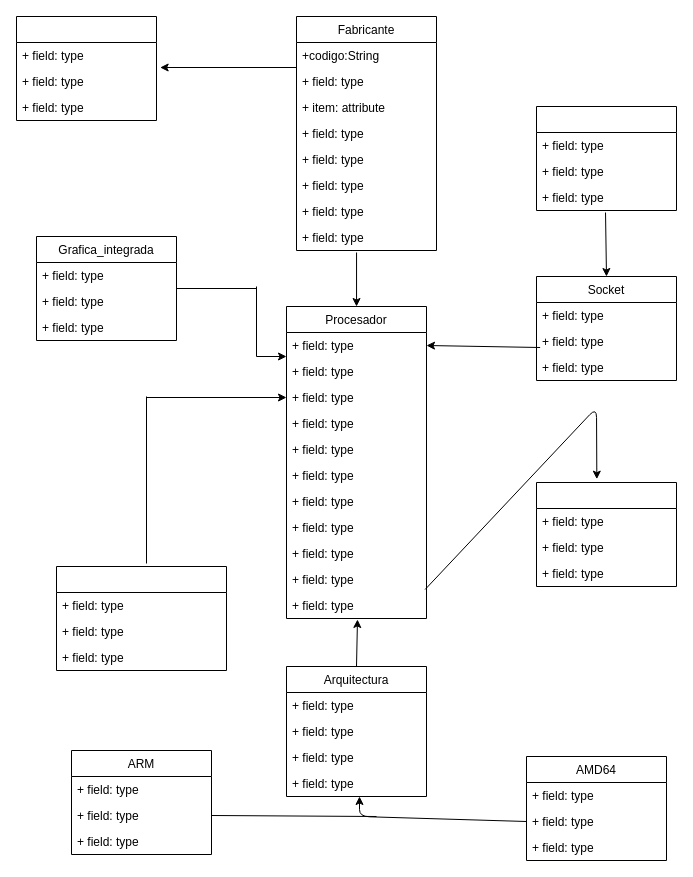
The diagram is 693 pixels wide and 877 high, and some of its shapes have lost their labels. The shapes that lost their labels are listed below. From the top down, each one's box as (x1, y1, x2, y2) in pixels, then its label:
(16, 16, 156, 120): Fabricante_ciudad
(536, 106, 676, 210): Placa_base
(536, 482, 676, 586): Nombre_Procesador
(56, 566, 226, 670): Procesador-Grafica integrada
